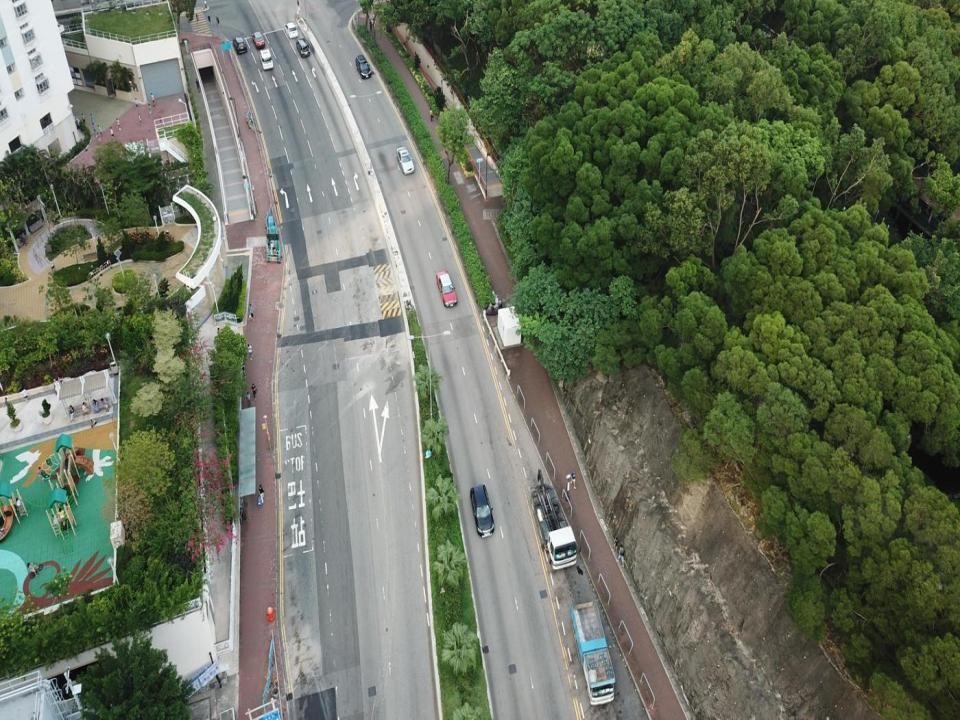car: (436, 270, 458, 307), (396, 146, 415, 175), (232, 36, 247, 54), (252, 31, 265, 48)
truck: (530, 468, 581, 569), (571, 598, 615, 704)
van: (470, 485, 494, 538), (355, 54, 371, 79), (258, 48, 274, 70), (296, 38, 310, 56), (284, 21, 298, 38)
